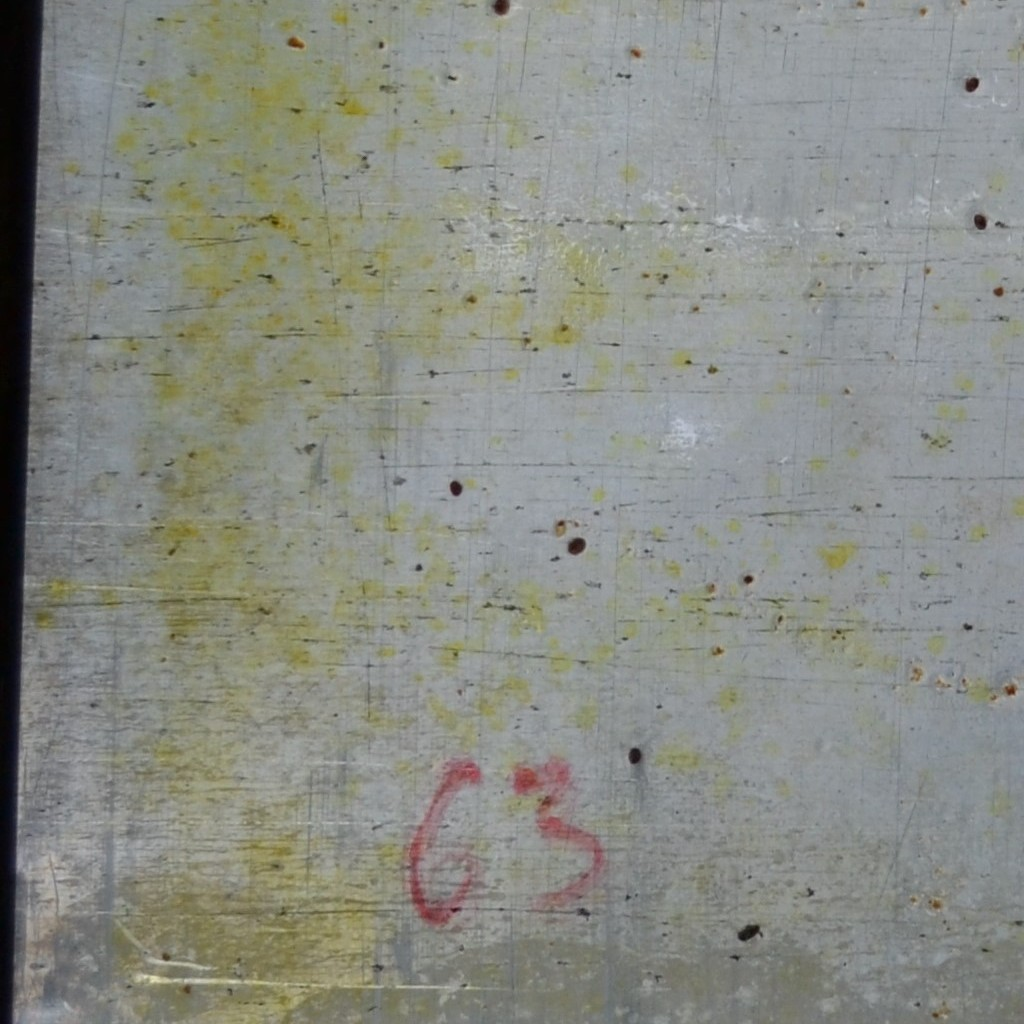varroa: (734, 919, 762, 945), (565, 534, 589, 560), (958, 76, 982, 94), (625, 745, 643, 768), (971, 209, 988, 233), (447, 478, 465, 498), (489, 0, 511, 16)
